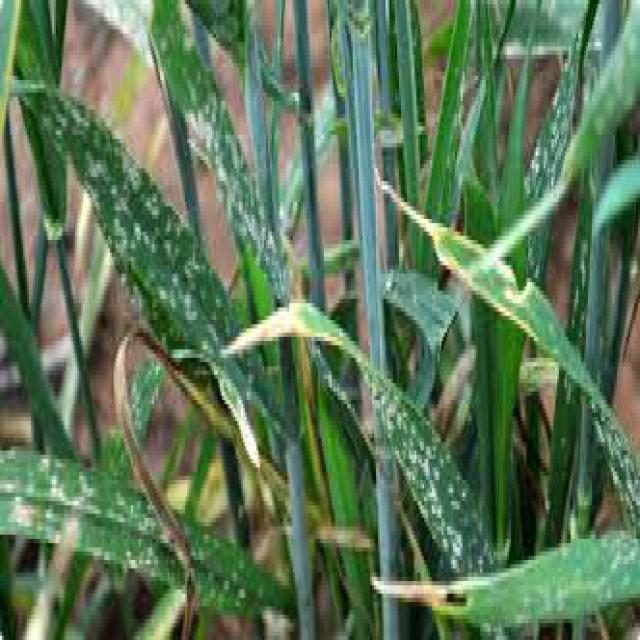wheat-powdery-mildew: (15, 0, 235, 396), (312, 337, 497, 581), (152, 0, 291, 324), (0, 446, 251, 602)
